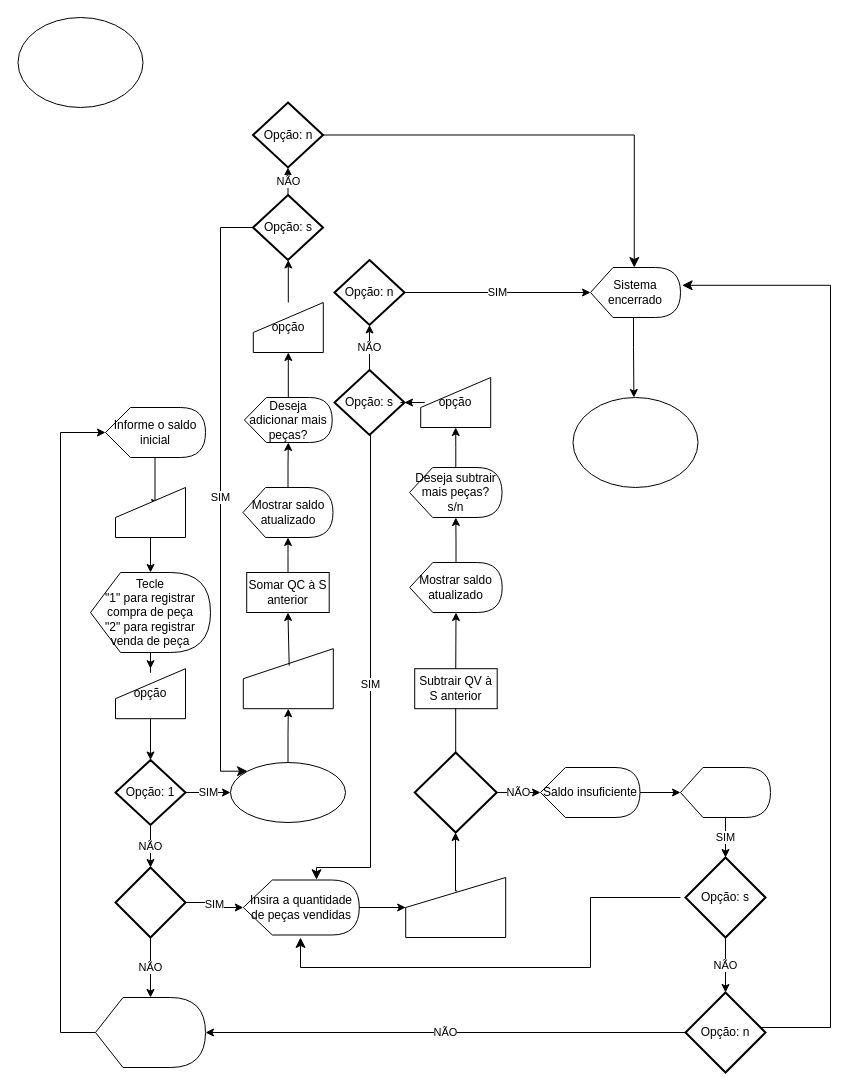
Some shapes in this 858 by 1091 pixel diagram are drawn without their labels. The shapes that lost their labels are listed below. From the top down, each one's centre as x and y in pixels, then its label:
the point at 80,62: Início
the point at 635,442: FIM
the point at 150,512: saldo (S)
the point at 287,678: Quantida comprada (QC)
the point at 288,792: Insira a quantidade de peças compradas (QC)
the point at 455,792: QV <= S?
the point at 725,792: Deseja repetir a operação? s/n
the point at 150,902: Opção: 2
the point at 455,907: Quantidade vendida (QV)
the point at 150,1032: Comando não reconhecido, pressione qualquer tecla para voltar
